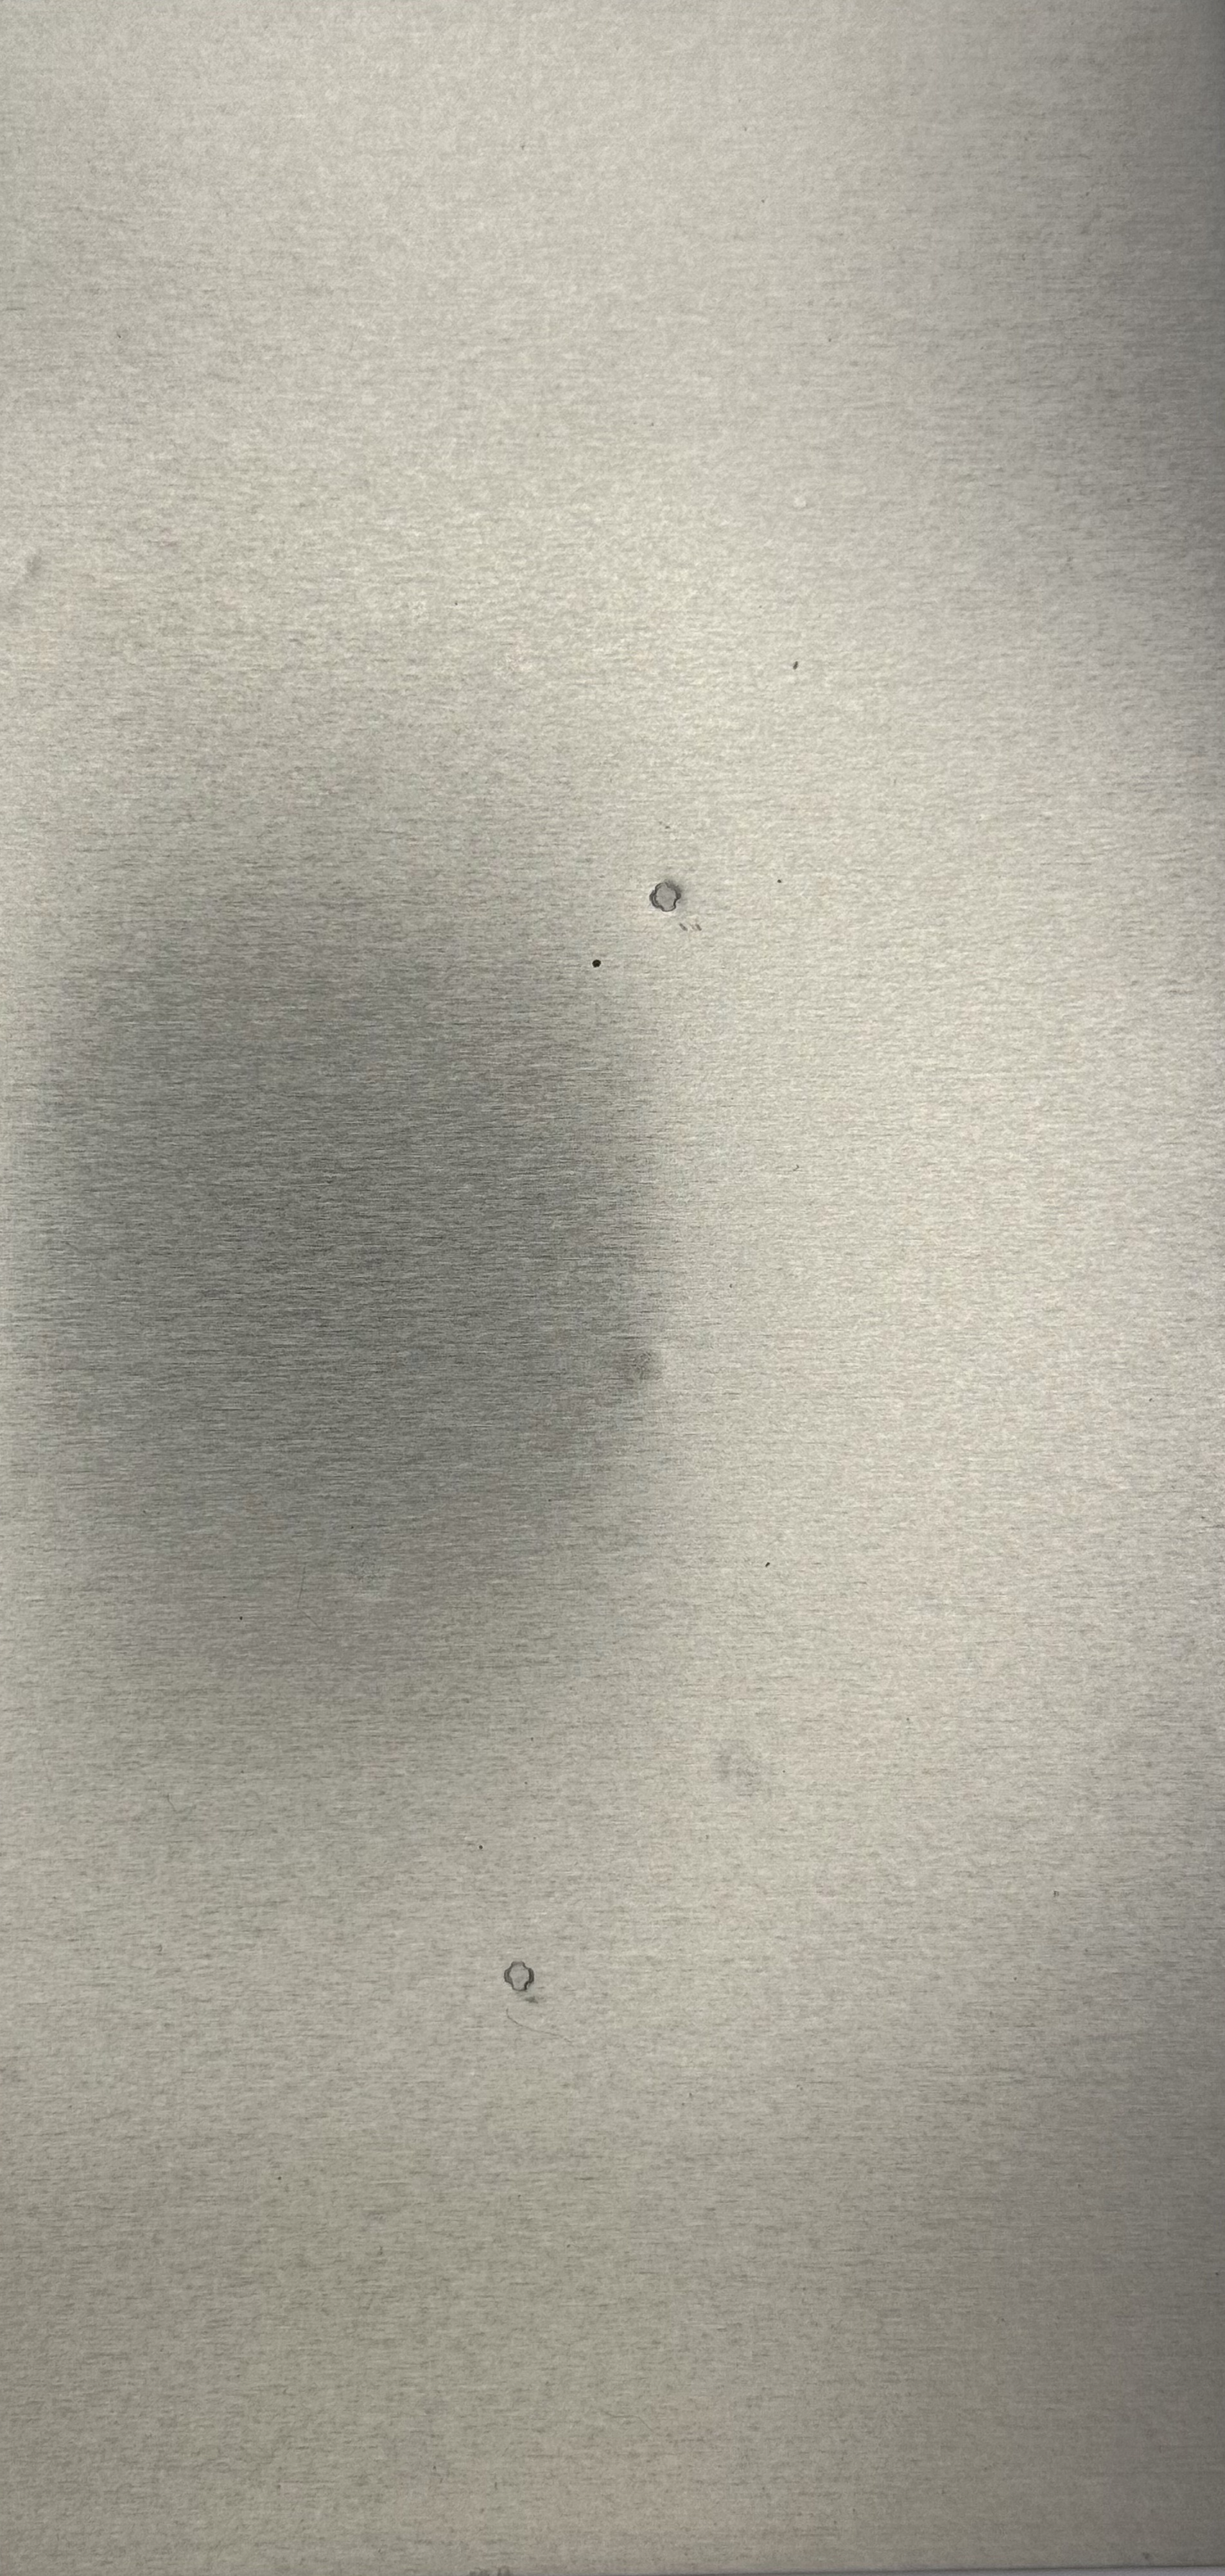Delle: (315, 1518, 424, 1625), (598, 1318, 706, 1411), (481, 1943, 583, 2016), (629, 874, 711, 933)
